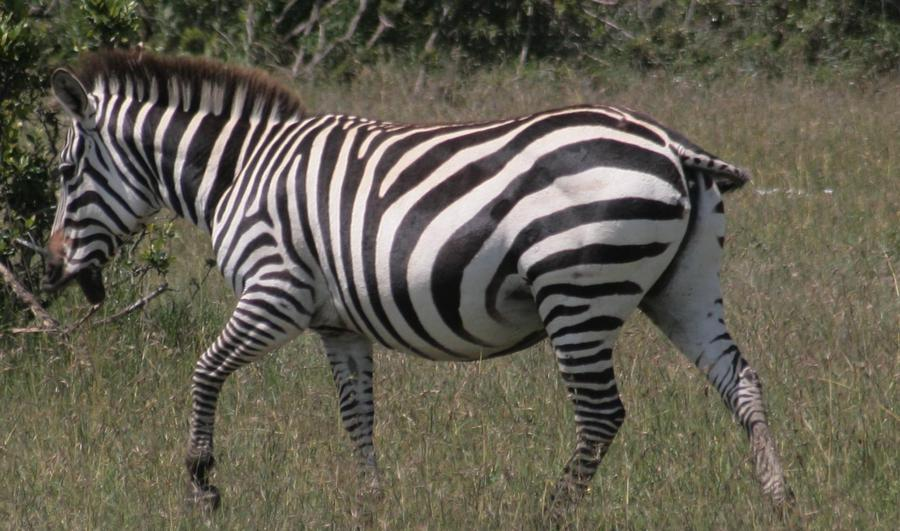zebra_plains: (186, 76, 664, 381)
